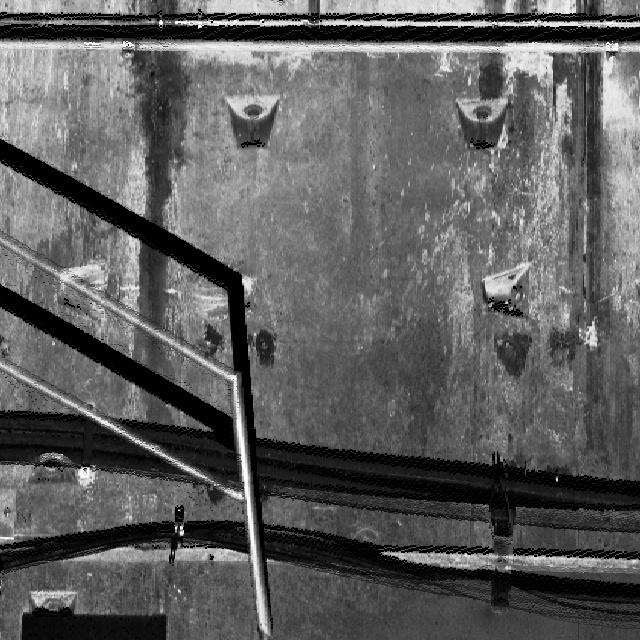leakage: (121, 0, 190, 426), (547, 0, 613, 293), (474, 0, 511, 102)
